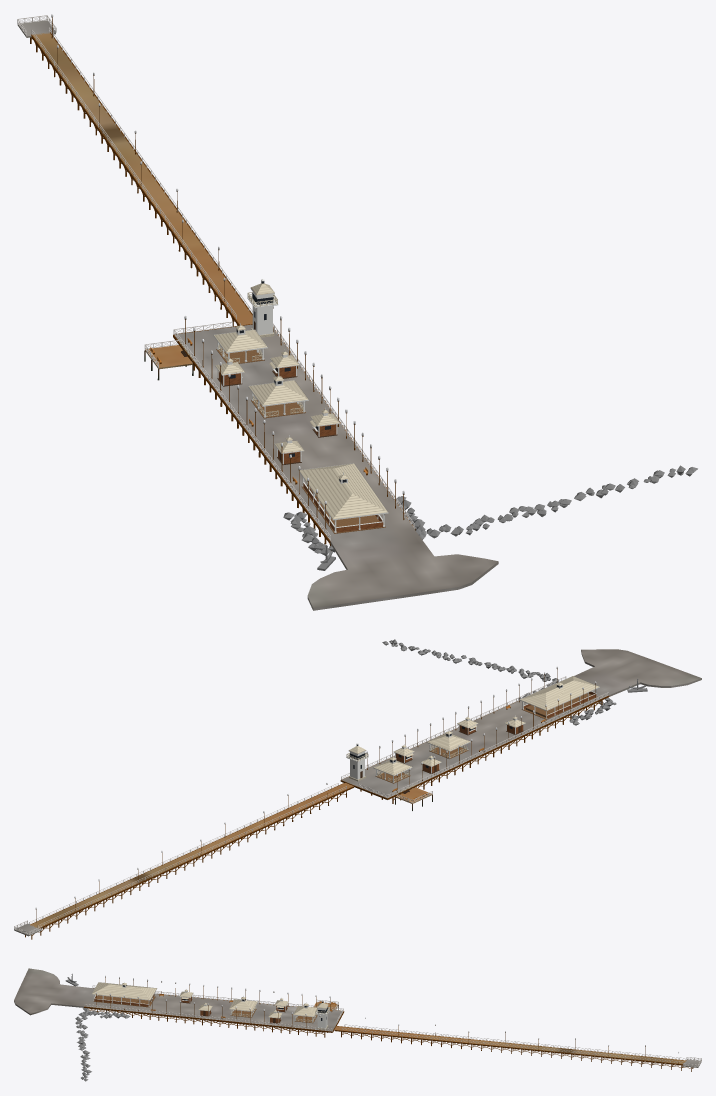
File: PONTE_DOS_INGLESES.fbx
The picture shows the model from 3 angles, top to bottom: view 1: azimuth 30°, elevation 25°; view 2: azimuth 150°, elevation 25°; view 3: azimuth 270°, elevation 25°; orthographic projection. The views are drawn at different scales.
Visible parts, largest first — view 1: Ponte_Estrutura, Ponte_Pavilhoes, Ponte_Detalhes, Pedras_Enrocamento, Ponte_Postes; view 2: Ponte_Estrutura, Ponte_Pavilhoes, Ponte_Detalhes, Pedras_Enrocamento, Ponte_Postes; view 3: Ponte_Estrutura, Ponte_Pavilhoes, Ponte_Detalhes, Pedras_Enrocamento, Ponte_Postes.
Part boxes in pixels (x1=…): Ponte_Estrutura: x1=17, y1=20, x2=498, y2=610; Ponte_Pavilhoes: x1=144, y1=279, x2=388, y2=533; Ponte_Detalhes: x1=17, y1=14, x2=415, y2=544; Pedras_Enrocamento: x1=283, y1=465, x2=697, y2=555; Ponte_Postes: x1=184, y1=306, x2=404, y2=529; Ponte_Estrutura: x1=14, y1=649, x2=701, y2=939; Ponte_Pavilhoes: x1=346, y1=676, x2=599, y2=810; Ponte_Detalhes: x1=14, y1=695, x2=609, y2=935; Pedras_Enrocamento: x1=382, y1=639, x2=616, y2=725; Ponte_Postes: x1=366, y1=666, x2=596, y2=792; Ponte_Estrutura: x1=14, y1=968, x2=701, y2=1071; Ponte_Pavilhoes: x1=91, y1=982, x2=338, y2=1029; Ponte_Detalhes: x1=84, y1=988, x2=701, y2=1068; Pedras_Enrocamento: x1=75, y1=1008, x2=130, y2=1081; Ponte_Postes: x1=95, y1=975, x2=330, y2=1029.
Bounding box in the file's own units: 99.54 × 15.18 × 268.
